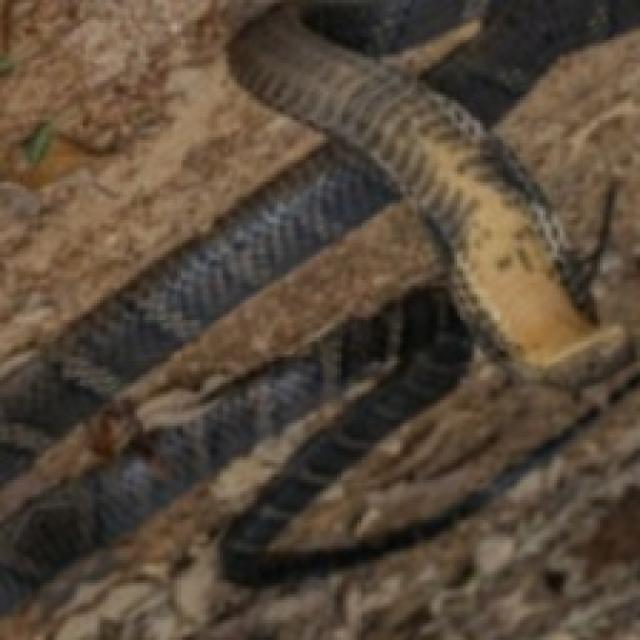king cobra: (0, 9, 637, 637), (231, 9, 623, 383), (391, 409, 637, 577), (511, 563, 540, 577)
